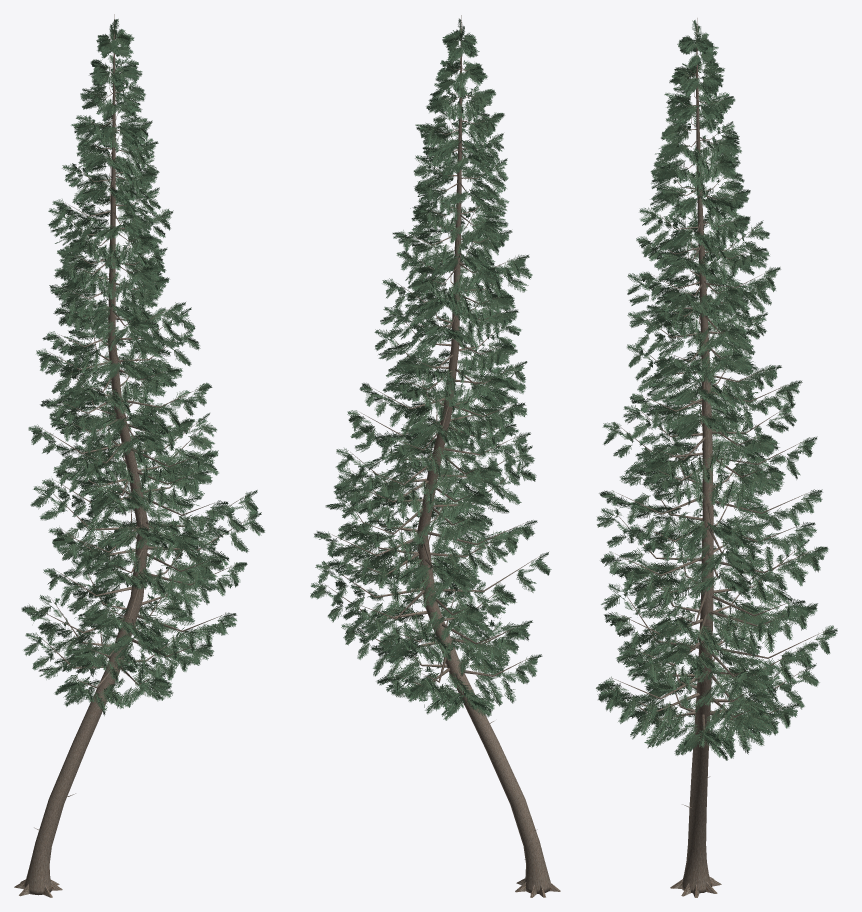
File: SS_Defect_Bent_Mature_02_LOD1.fbx
3 renders of one model, left to right at view 1: azimuth 30°, elevation 25°; view 2: azimuth 150°, elevation 25°; view 3: azimuth 270°, elevation 25°, orthographic. The views are drawn at different scales.
Parts seen in each view (by area): view 1: SS_Defect_Bent_Mature_02_LOD1_Foliage, SS_Defect_Bent_Mature_02_LOD1_Trunk, SS_Defect_Bent_Mature_02_LOD1_Branches; view 2: SS_Defect_Bent_Mature_02_LOD1_Foliage, SS_Defect_Bent_Mature_02_LOD1_Trunk, SS_Defect_Bent_Mature_02_LOD1_Branches; view 3: SS_Defect_Bent_Mature_02_LOD1_Foliage, SS_Defect_Bent_Mature_02_LOD1_Trunk, SS_Defect_Bent_Mature_02_LOD1_Branches.
Boxes of the visible parts, x1,y1,x2,y2 form: SS_Defect_Bent_Mature_02_LOD1_Foliage: [21, 19, 264, 715]; SS_Defect_Bent_Mature_02_LOD1_Trunk: [14, 14, 149, 897]; SS_Defect_Bent_Mature_02_LOD1_Branches: [34, 36, 254, 830]; SS_Defect_Bent_Mature_02_LOD1_Foliage: [310, 18, 551, 720]; SS_Defect_Bent_Mature_02_LOD1_Trunk: [416, 15, 560, 897]; SS_Defect_Bent_Mature_02_LOD1_Branches: [323, 35, 540, 859]; SS_Defect_Bent_Mature_02_LOD1_Foliage: [596, 20, 837, 760]; SS_Defect_Bent_Mature_02_LOD1_Trunk: [670, 18, 721, 897]; SS_Defect_Bent_Mature_02_LOD1_Branches: [611, 39, 826, 807].
Bounding box in the file's own units: 776 × 2600 × 669.
Materials: 2 (2 with a texture image).
